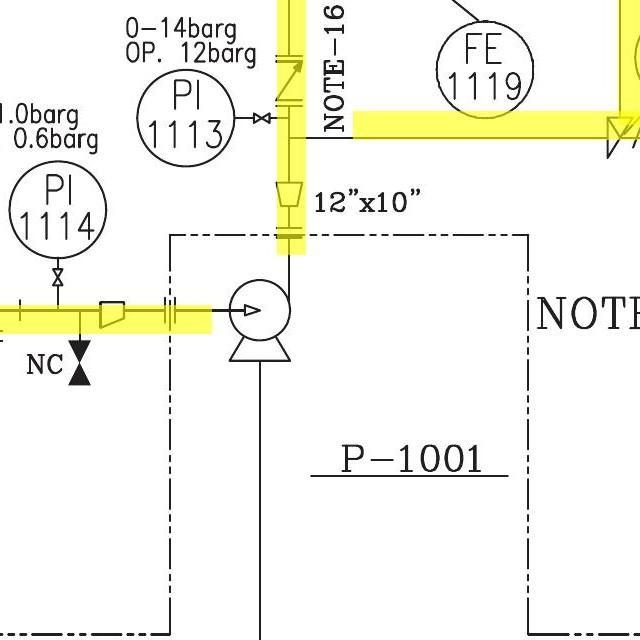P: (222, 273, 301, 367)
SP: (269, 175, 308, 213), (93, 297, 131, 334)
